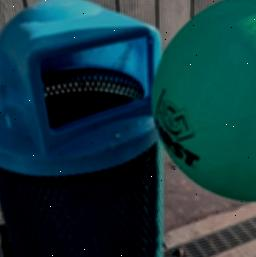algae: (147, 0, 256, 200)
